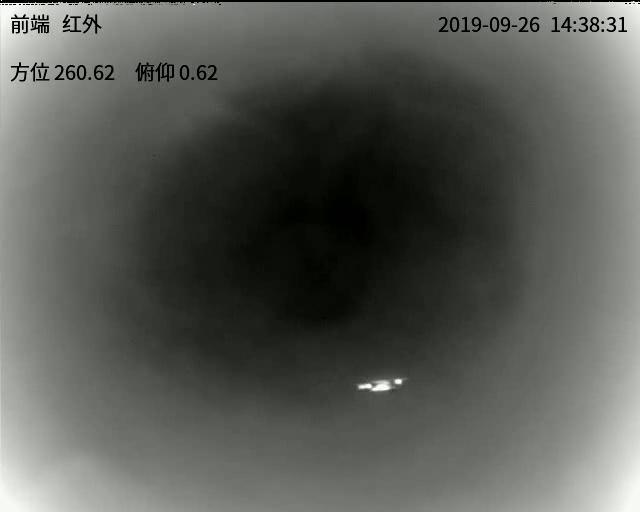DRONE: (355, 376, 405, 394)
